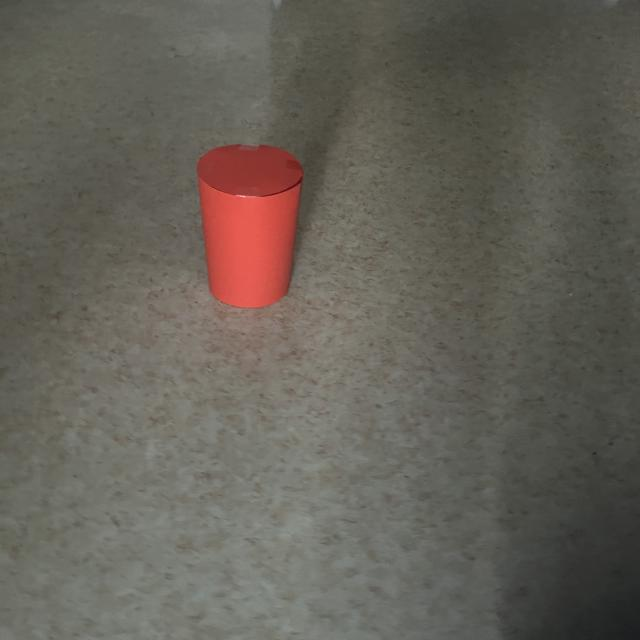przeszkoda: (197, 144, 303, 307)
